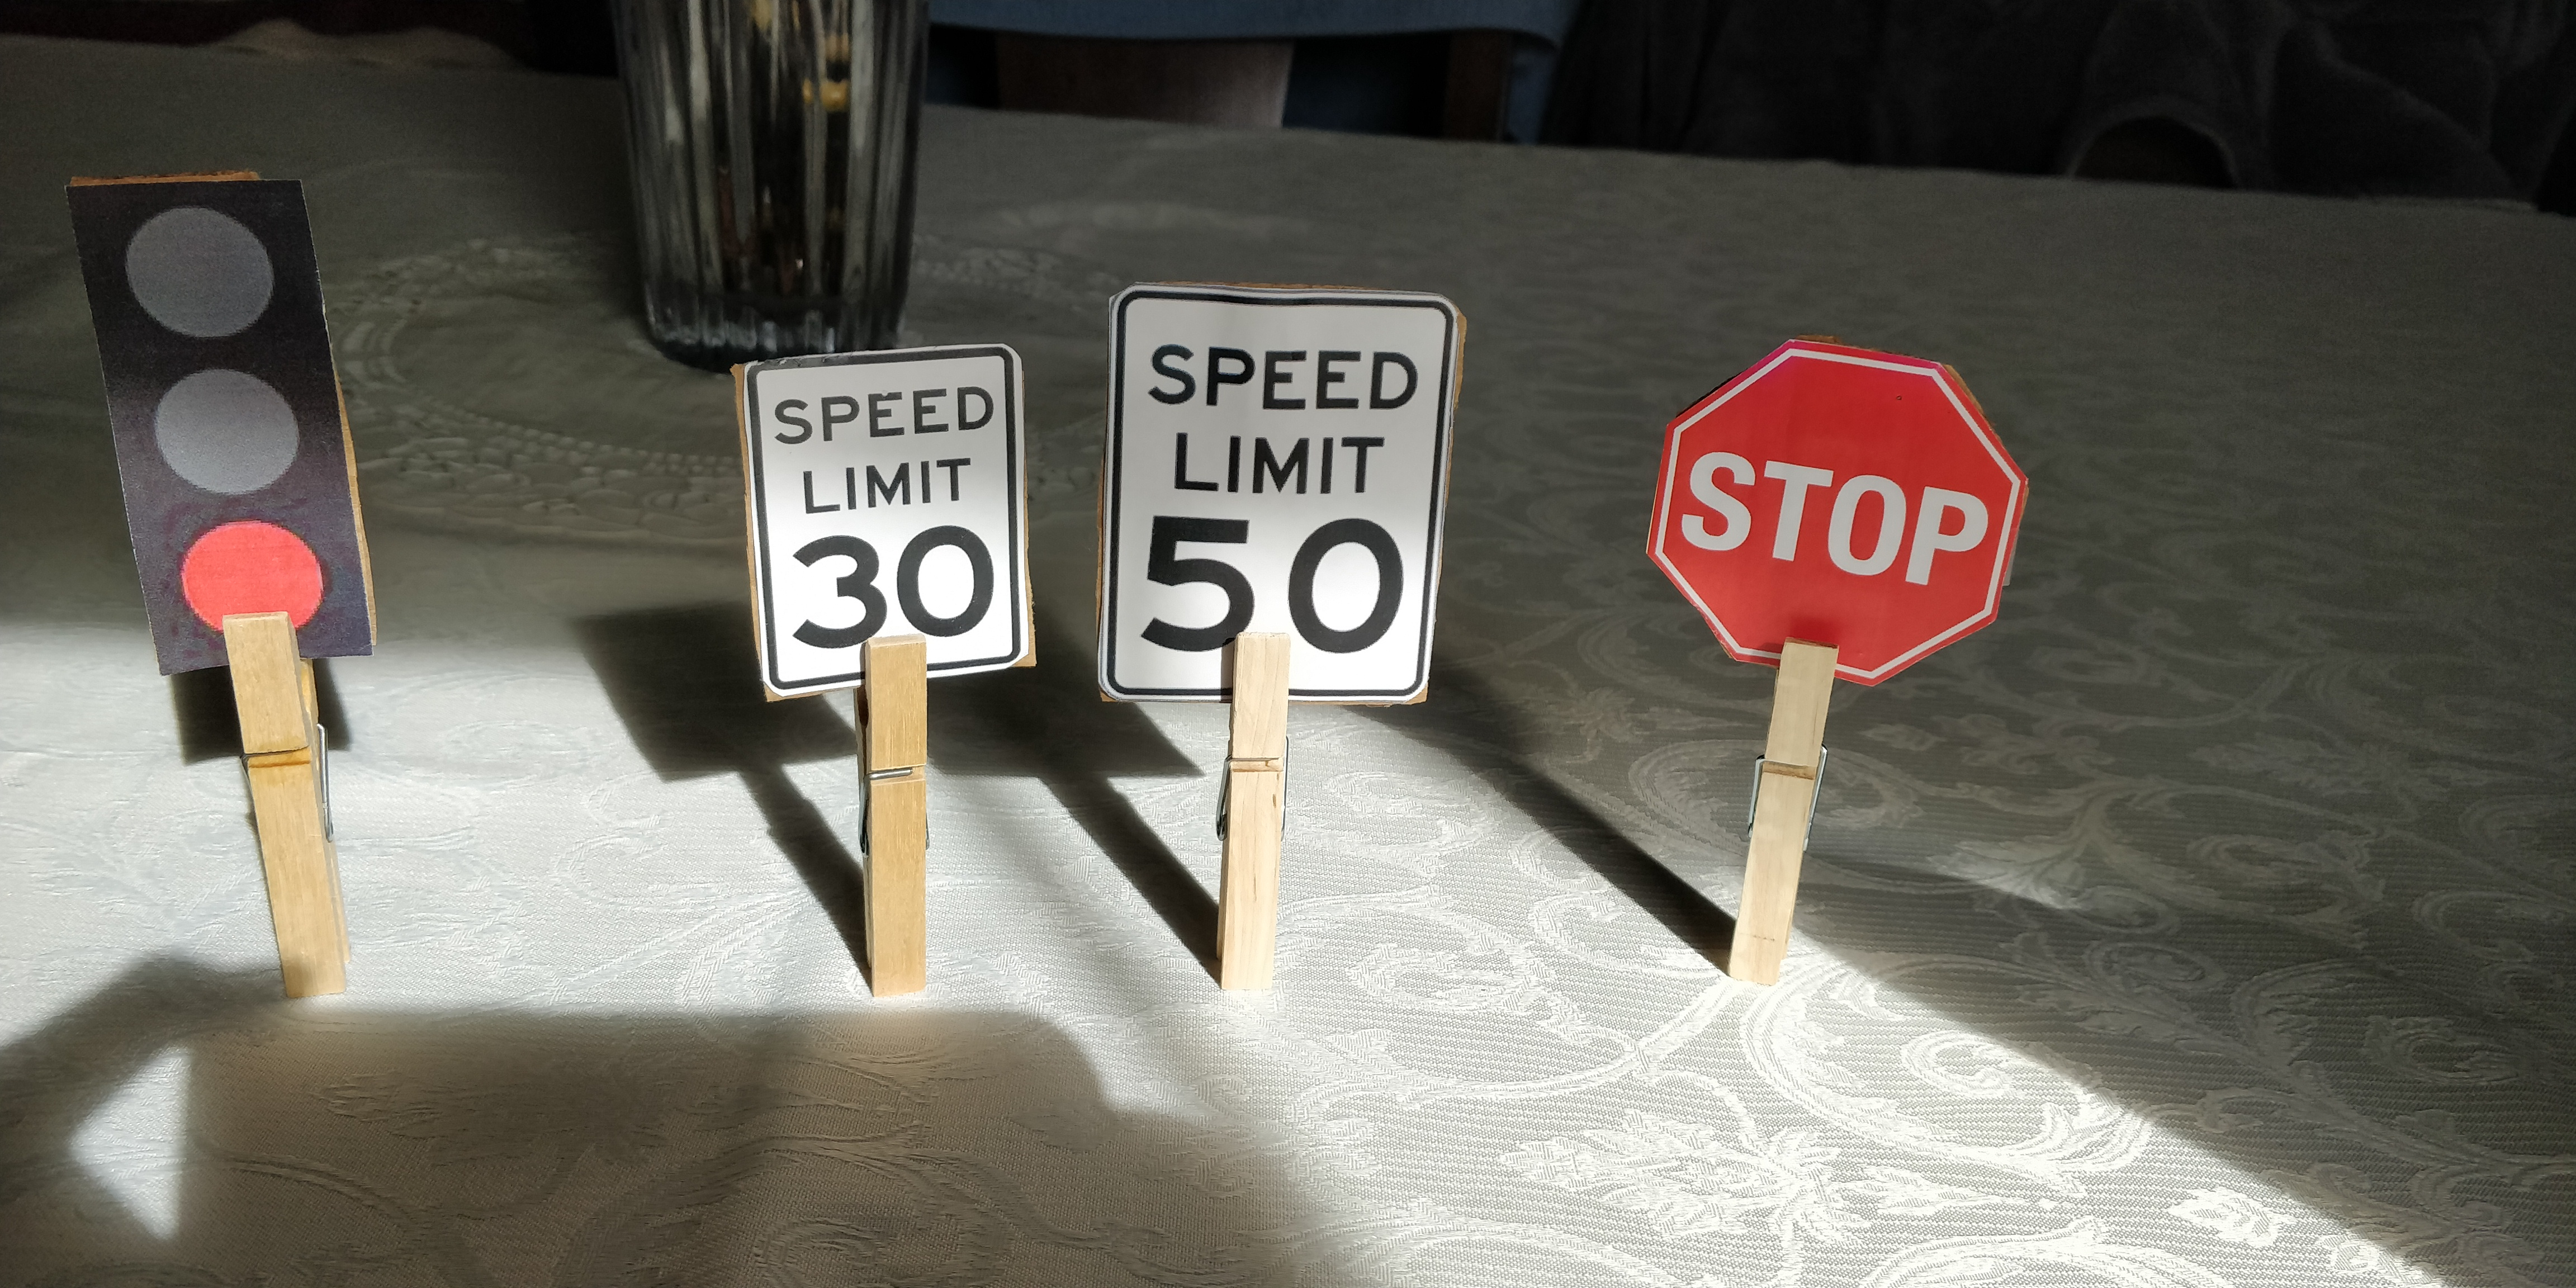Speed Limit 30: (723, 352, 1038, 697)
Speed Limit 50: (1099, 283, 1459, 711)
Stop Sign: (1644, 338, 2029, 683)
red light: (67, 169, 376, 669)
